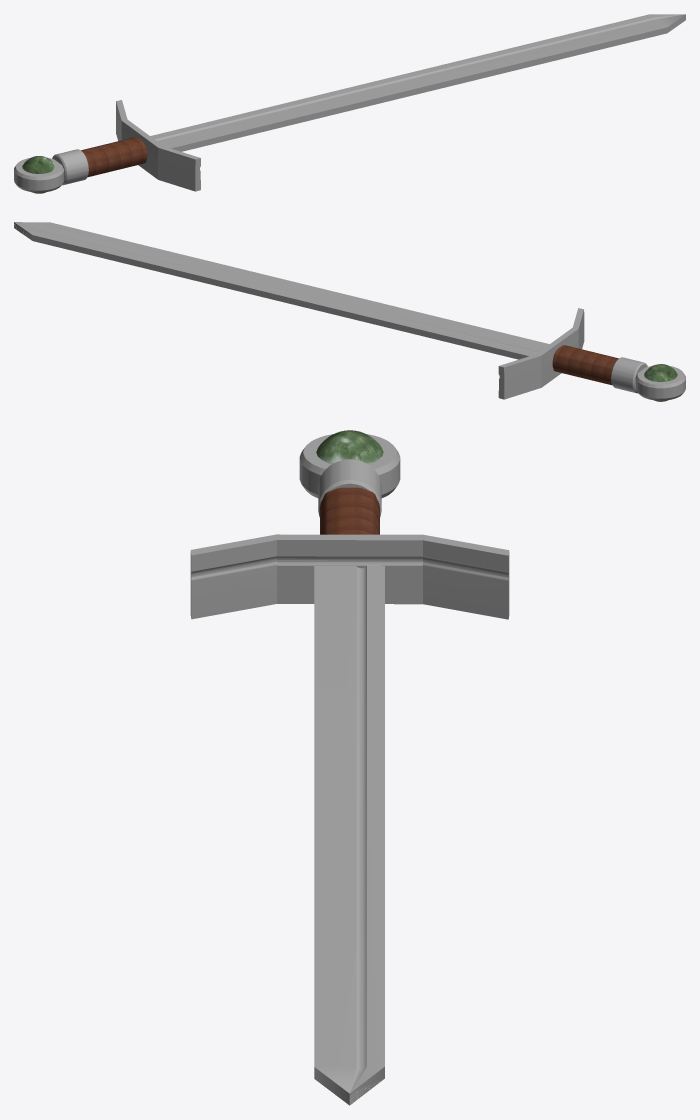
File: sword.fbx
The picture shows the model from 3 angles, top to bottom: view 1: azimuth 30°, elevation 25°; view 2: azimuth 150°, elevation 25°; view 3: azimuth 270°, elevation 25°; orthographic projection. The views are drawn at different scales.
Visible parts, largest first — view 1: polySurface8, pCube1, pSphere1; view 2: polySurface8, pCube1, pSphere1; view 3: polySurface8, pCube1, pSphere1.
Boxes of the visible parts, x1,y1,x2,y2 form: polySurface8: [14, 14, 685, 192]; pCube1: [81, 137, 147, 177]; pSphere1: [22, 156, 55, 193]; polySurface8: [14, 222, 685, 400]; pCube1: [552, 345, 618, 385]; pSphere1: [644, 364, 677, 401]; polySurface8: [190, 434, 509, 1105]; pCube1: [320, 487, 379, 534]; pSphere1: [316, 430, 383, 464].
Size of the model in its own units: 25.73 by 1.27 by 5.32.
